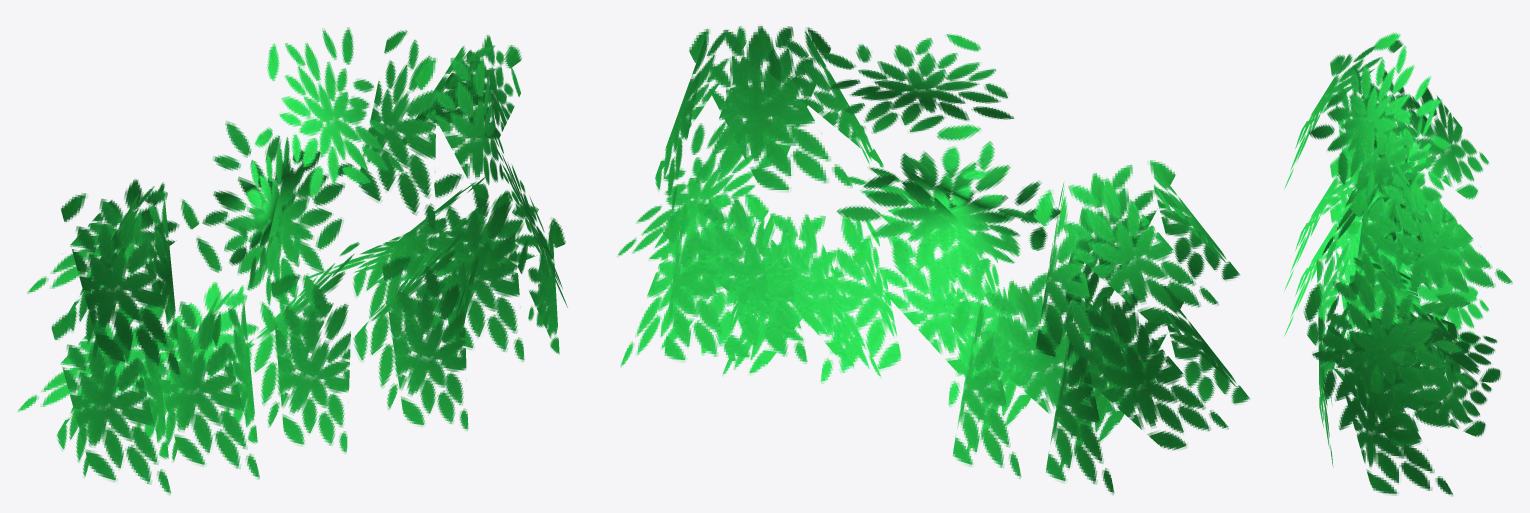
The model's file is bush-round.lod2.glb.
3 renders of one model, left to right at view 1: azimuth 30°, elevation 25°; view 2: azimuth 150°, elevation 25°; view 3: azimuth 270°, elevation 25°, orthographic. The views are drawn at different scales.
Parts seen in each view (by area): view 1: Object_6; view 2: Object_6; view 3: Object_6.
Boxes of the visible parts, bbox=[...] form: Object_6: bbox=[18, 27, 567, 494]; Object_6: bbox=[617, 26, 1250, 494]; Object_6: bbox=[1284, 32, 1512, 496].
Bounding box in the file's own units: 1.71 × 1.29 × 0.7257.
Materials: 1 (1 with a texture image).
